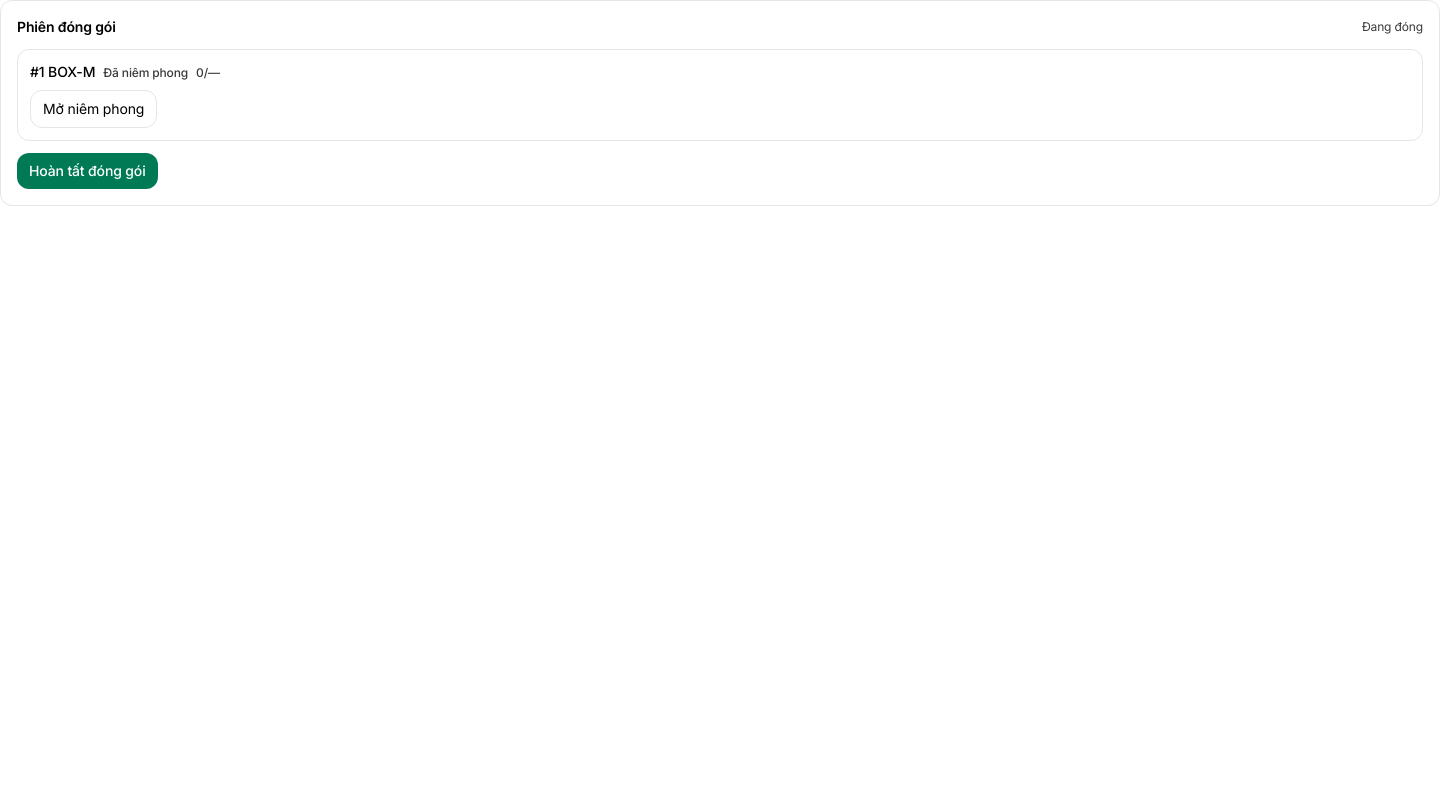
PackingSessionPanel — AOFP-332 › AC4: hoàn tác niêm phong gửi lý do người dùng chọn
Later steps or results of the test are not shown.
Click the button "Mở niêm phong".
click(94, 109)  # box [30,90,157,128]
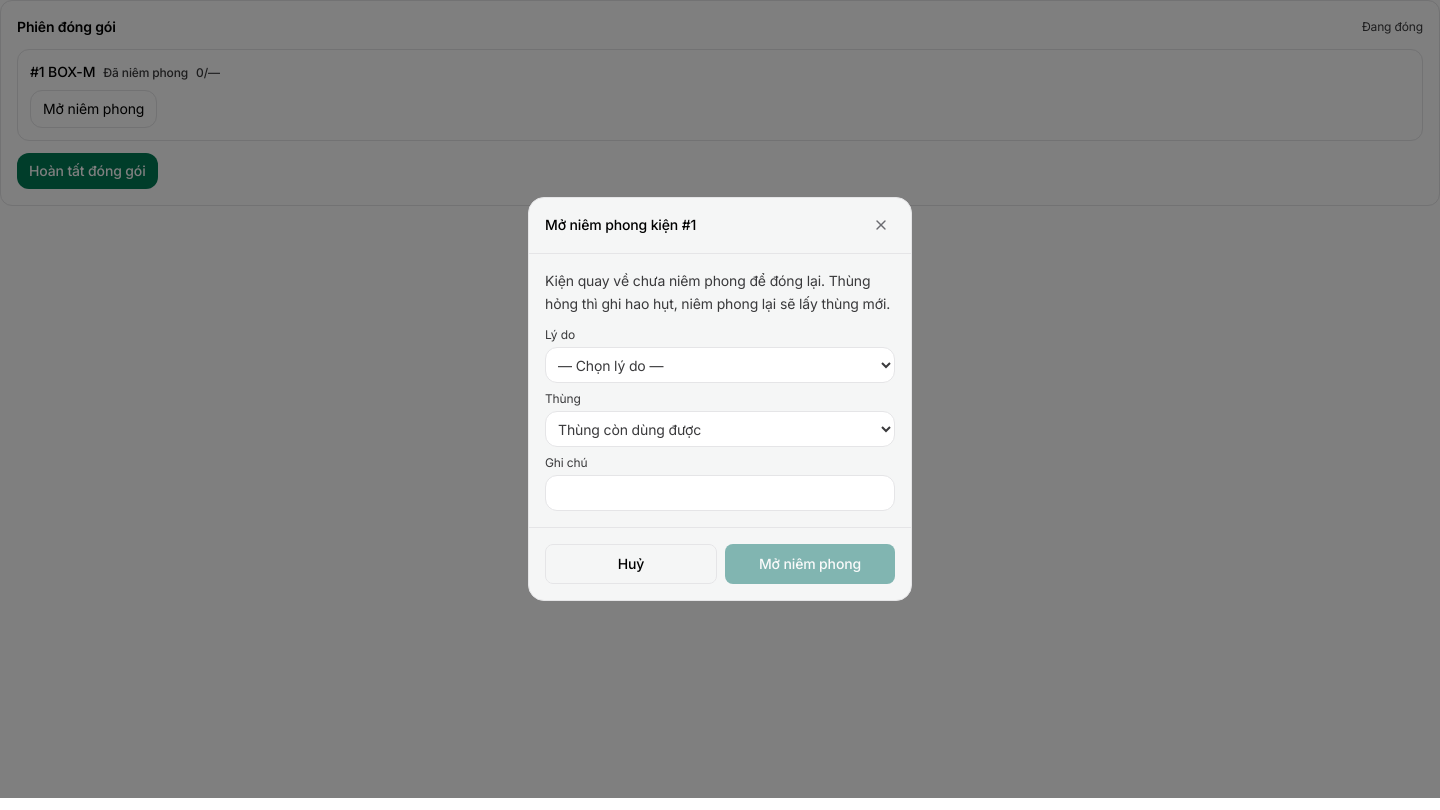
Expected: the button "Mở niêm phong" is disabled, [725,544,895,584]
Select "Hàng bị hỏng" in the dropdown labelled "Lý do" at (720, 365), box [545,347,895,383]
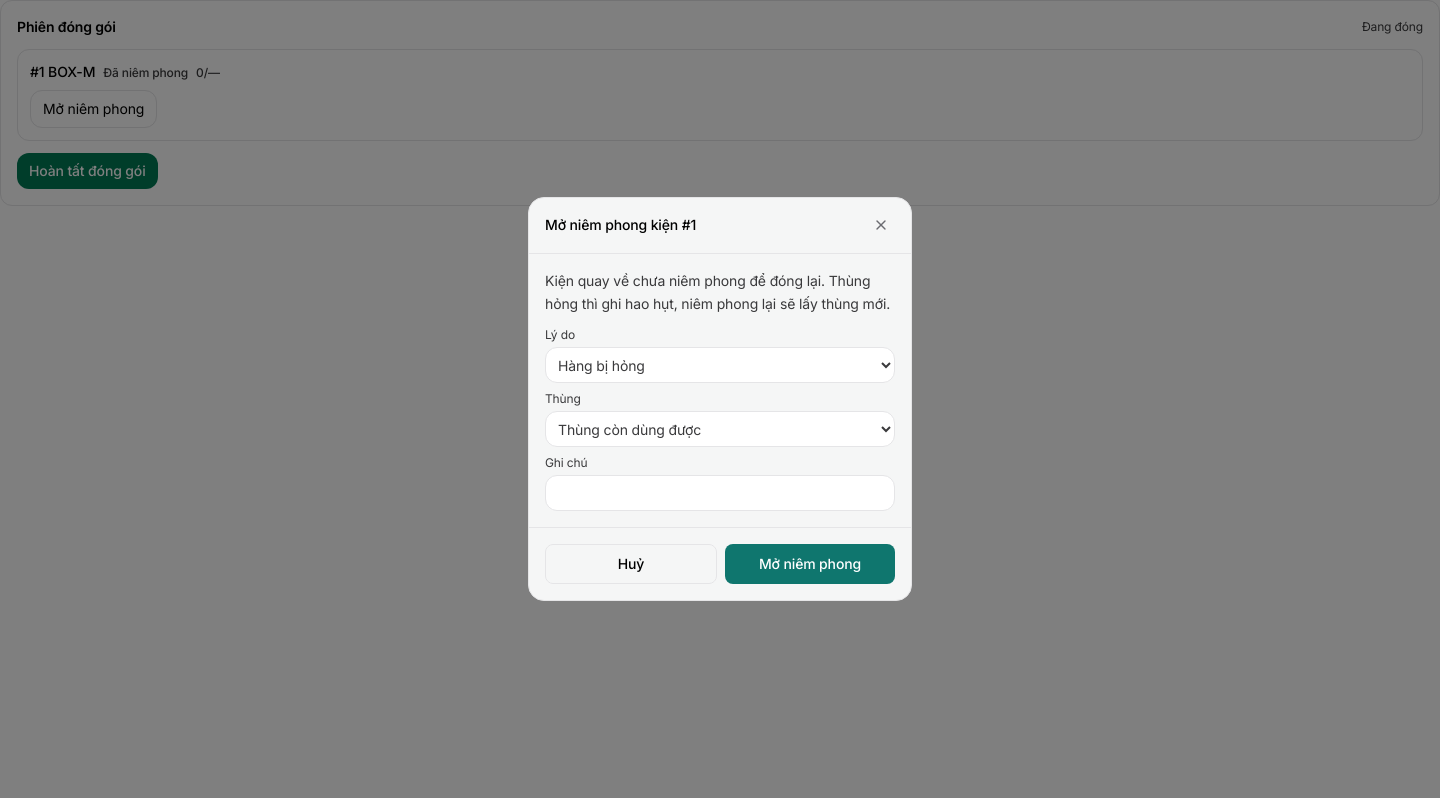
Expected: the button "Mở niêm phong" is enabled, [725,544,895,584]
